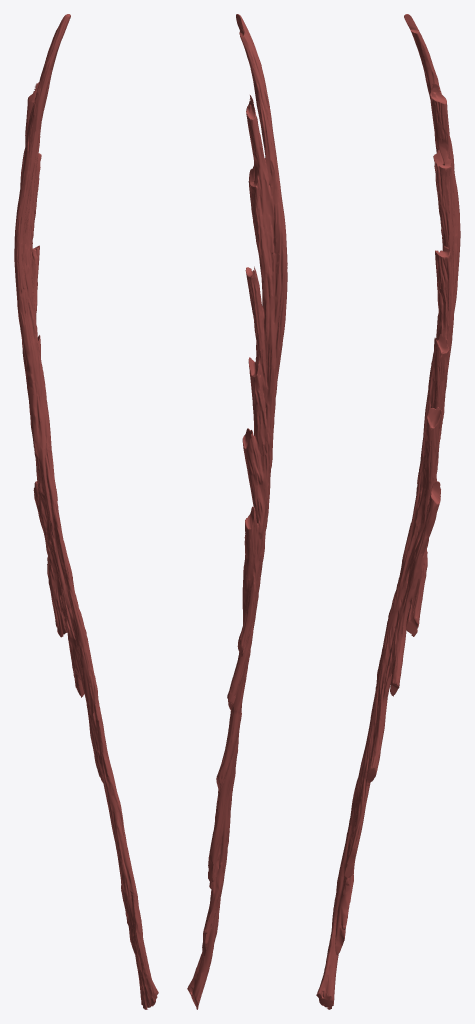
Rendered from FMA22779.glb.
3 renders of one model, left to right at view 1: azimuth 90°, elevation 25°; view 2: azimuth 210°, elevation 25°; view 3: azimuth 270°, elevation 25°, orthographic. The views are drawn at different scales.
Parts seen in each view (by area): view 1: FMA22779; view 2: FMA22779; view 3: FMA22779.
Part boxes in pixels (x1,y1,x2,y2): FMA22779: [14, 14, 158, 1009]; FMA22779: [187, 14, 287, 1009]; FMA22779: [316, 14, 460, 1009].
Bounding box in the file's own units: 0.0123 × 0.3655 × 0.048.
